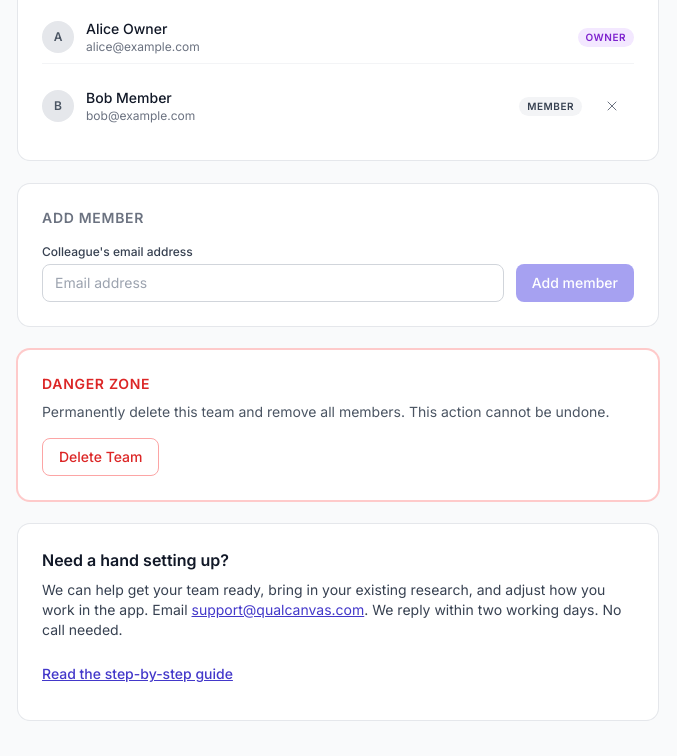
Test: TeamPage › loads the remaining team after deleting the first, instead of inventing an empty account
This screenshot has width=677, height=756.
(page scrolled)
Click the button "Delete Team" at (101, 457), box [42,438,160,476]
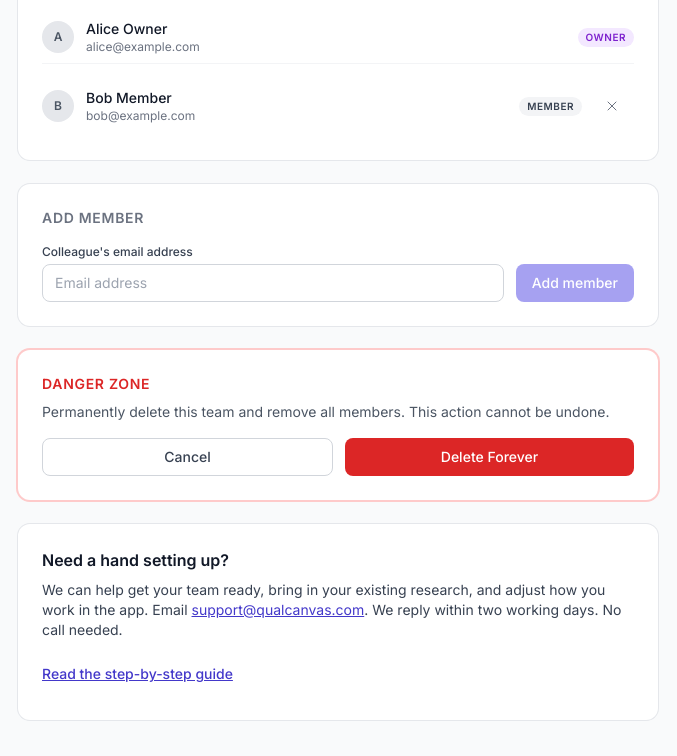
Click the button "Delete Forever" at (490, 457), box [345,438,634,476]
(page scrolled)
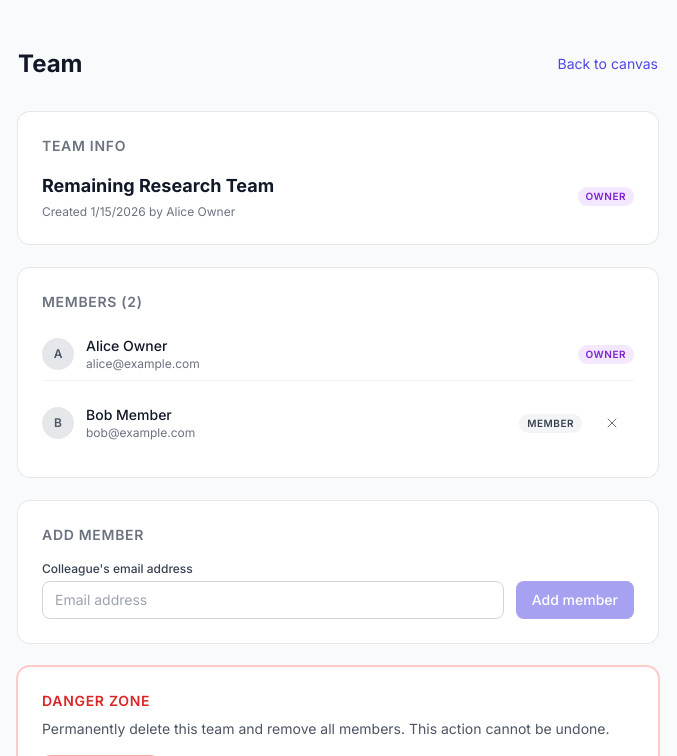
Expected: the text "Remaining Research Team" is shown, [42,172,274,200]
